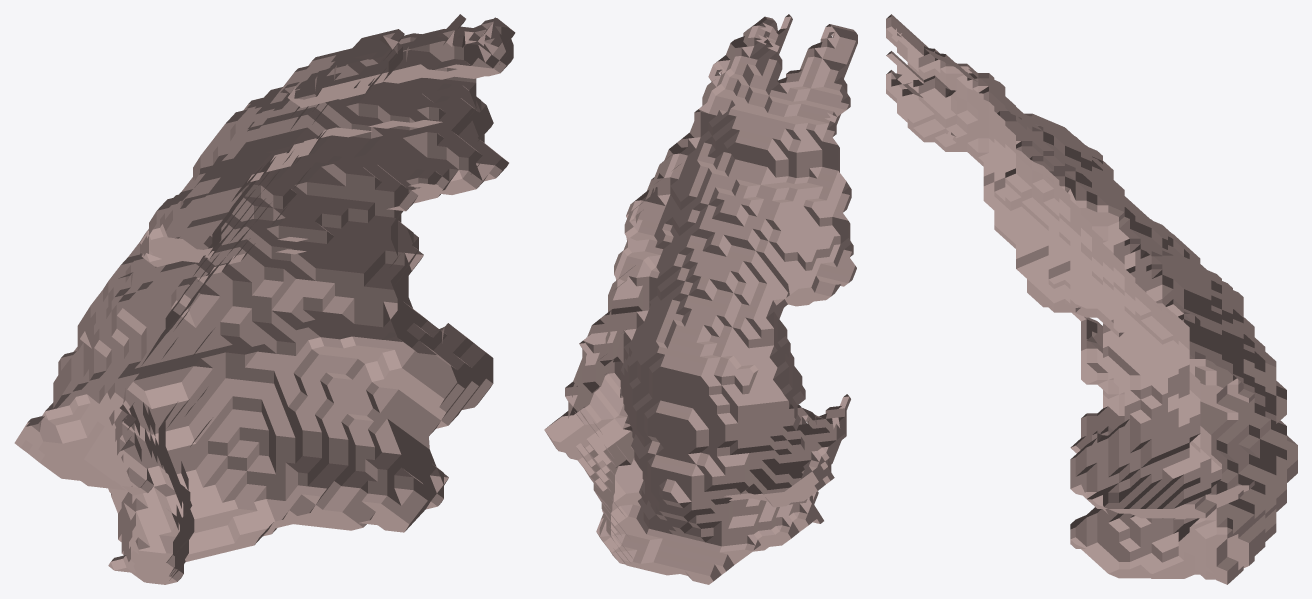
Rendered from region_0165_Vd-dd__dorsal_zone_of_ventral_telencephalon_.glb.
The picture shows the model from 3 angles, left to right: view 1: azimuth 30°, elevation 25°; view 2: azimuth 150°, elevation 25°; view 3: azimuth 270°, elevation 25°; orthographic projection. The views are drawn at different scales.
Parts seen in each view (by area): view 1: world; view 2: world; view 3: world.
Part boxes in pixels (x1,y1,x2,y2): world: (14, 14, 515, 584); world: (544, 14, 857, 584); world: (886, 14, 1297, 584).
Bounding box in the file's own units: 0.264 × 0.424 × 0.304.
